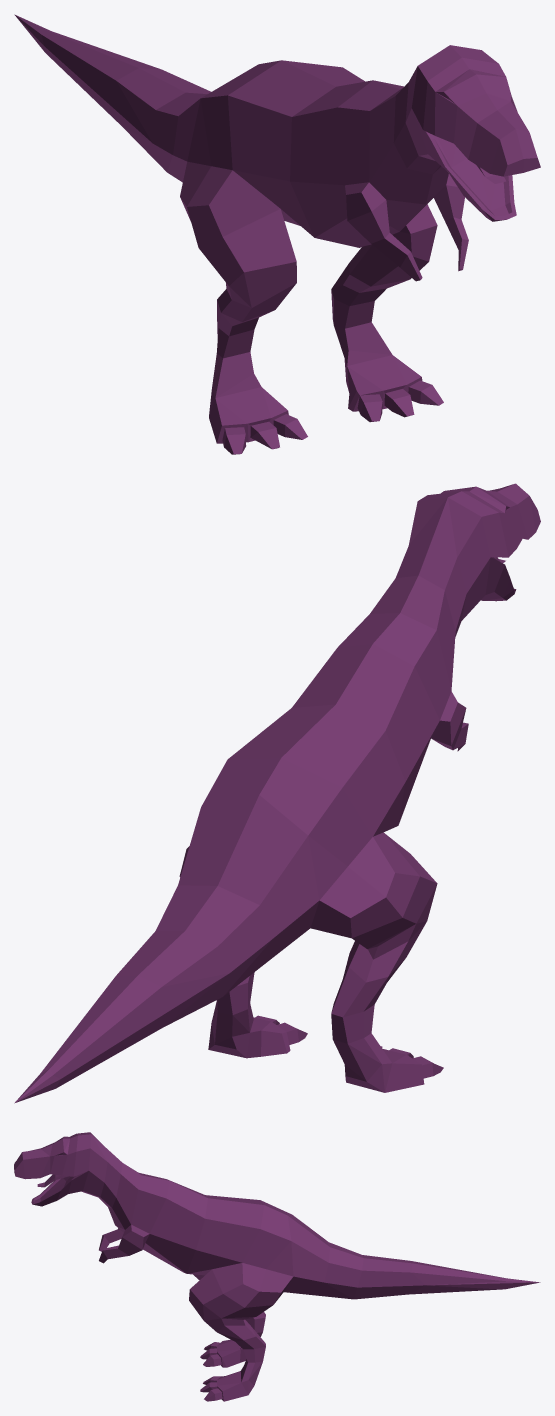
File: dinosaur.glb
3 views of the same model, one above another, from view 1: azimuth 30°, elevation 25°; view 2: azimuth 150°, elevation 25°; view 3: azimuth 270°, elevation 25° (orthographic). The views are drawn at different scales.
Parts seen in each view (by area): view 1: Plane; view 2: Plane; view 3: Plane.
Boxes of the visible parts, left/top/right/bottom form: Plane: left=14, top=14, right=540, bottom=454; Plane: left=14, top=483, right=540, bottom=1103; Plane: left=14, top=1132, right=540, bottom=1401.
Size of the model in its own units: 1.71 by 3.63 by 7.17.
